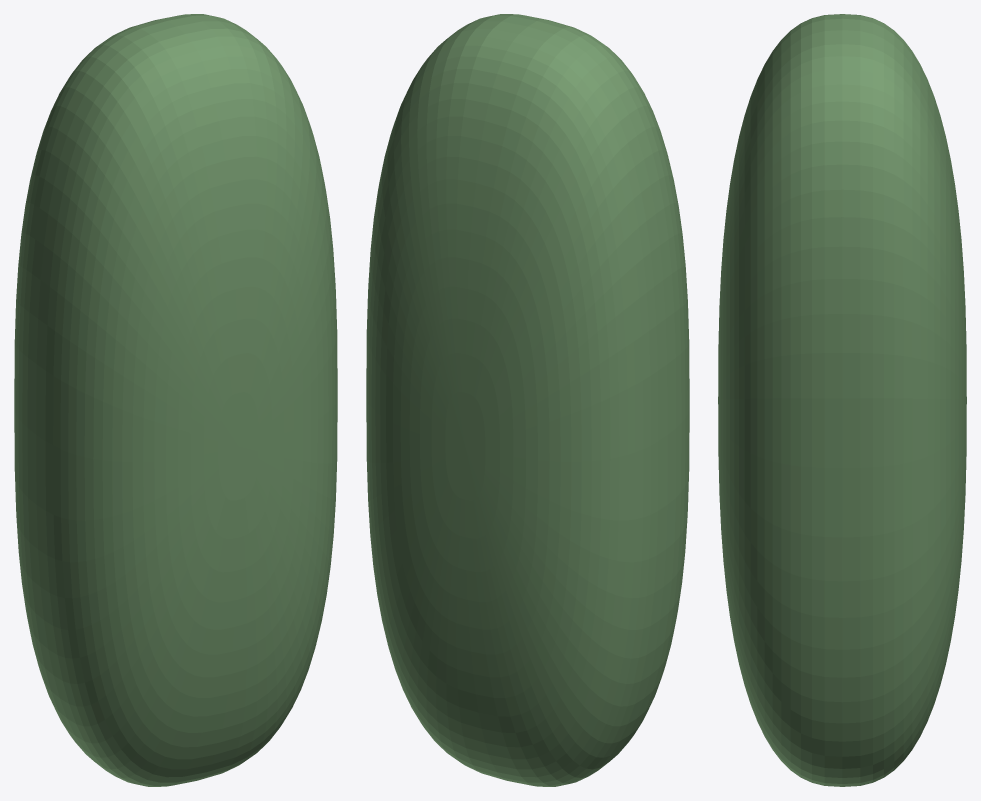
The model's file is gallbladder.glb.
3 renders of one model, left to right at view 1: azimuth 30°, elevation 25°; view 2: azimuth 150°, elevation 25°; view 3: azimuth 270°, elevation 25°, orthographic.
Parts seen in each view (by area): view 1: gallbladder; view 2: gallbladder; view 3: gallbladder.
Part boxes in pixels (x1=…): gallbladder: x1=14, y1=14, x2=337, y2=786; gallbladder: x1=366, y1=14, x2=689, y2=786; gallbladder: x1=718, y1=14, x2=966, y2=786.
Size of the model in its own units: 0.036 by 0.092 by 0.028.
